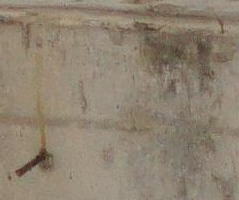Exposed reinforcement: (15, 151, 46, 178)
